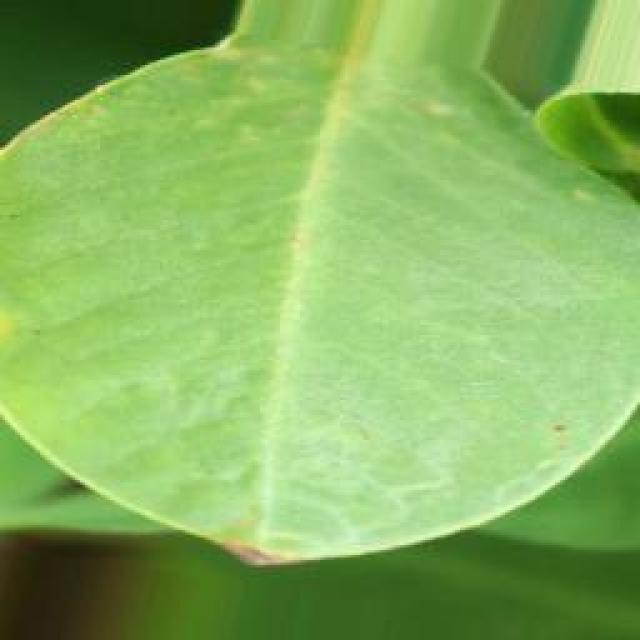Sigatoka: (511, 397, 626, 488), (211, 516, 321, 603)
